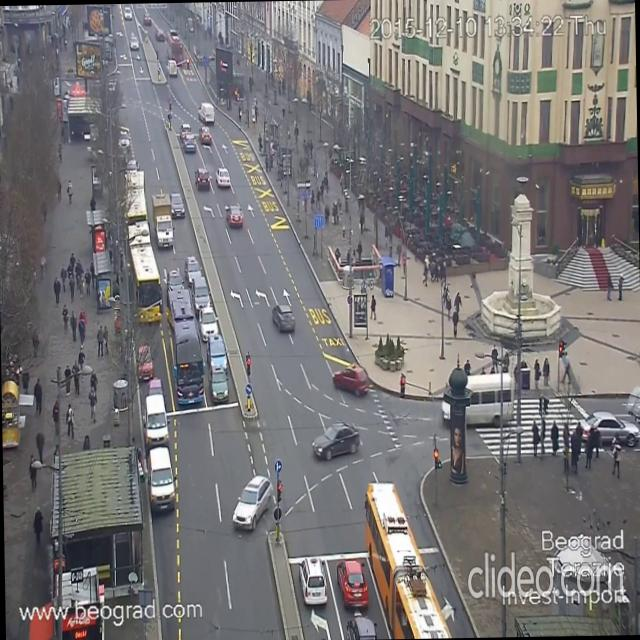bus: (362, 479, 452, 638), (164, 287, 203, 402), (442, 372, 513, 423), (127, 218, 159, 320), (126, 168, 150, 229), (166, 29, 182, 60)
car: (230, 474, 272, 530), (578, 409, 638, 448), (310, 420, 360, 461), (336, 558, 368, 610), (149, 448, 175, 512), (298, 556, 328, 606), (331, 362, 369, 397), (143, 396, 168, 446), (347, 608, 374, 640), (209, 362, 227, 402), (272, 302, 294, 332), (193, 280, 210, 312), (200, 313, 220, 340), (183, 258, 202, 285), (207, 330, 224, 360), (136, 350, 153, 378), (168, 190, 184, 214), (194, 170, 212, 190), (166, 266, 182, 288), (228, 202, 240, 228), (118, 131, 132, 153), (184, 134, 196, 155), (151, 380, 163, 400), (179, 120, 192, 138), (219, 166, 230, 186), (200, 105, 213, 119), (200, 127, 210, 145), (168, 62, 178, 78), (155, 28, 164, 42), (124, 8, 130, 22), (144, 12, 152, 22), (131, 34, 136, 48)
truck: (152, 194, 172, 246)
